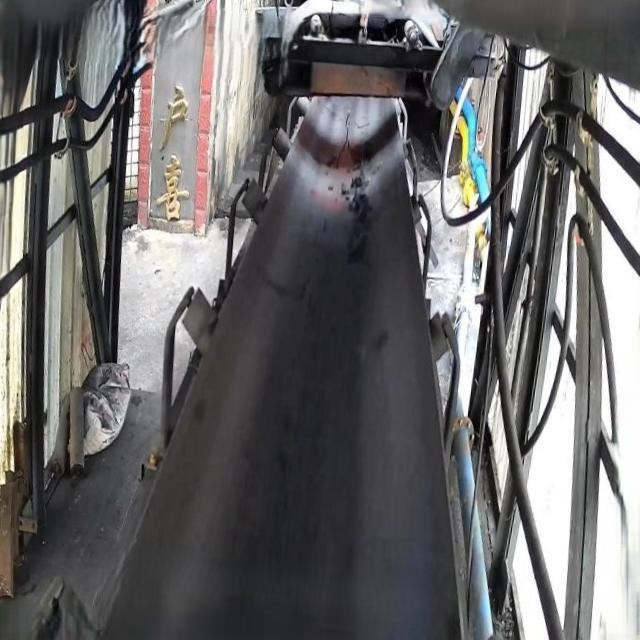Tear: (318, 110, 370, 178)
